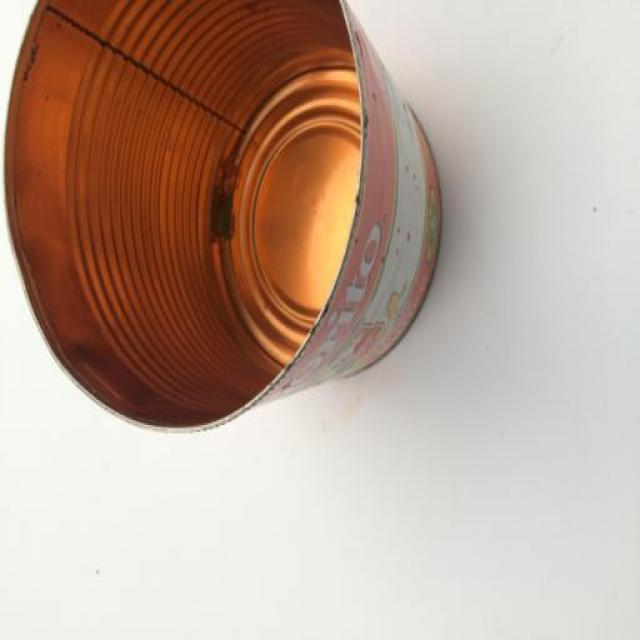metel: (5, 1, 497, 444)
